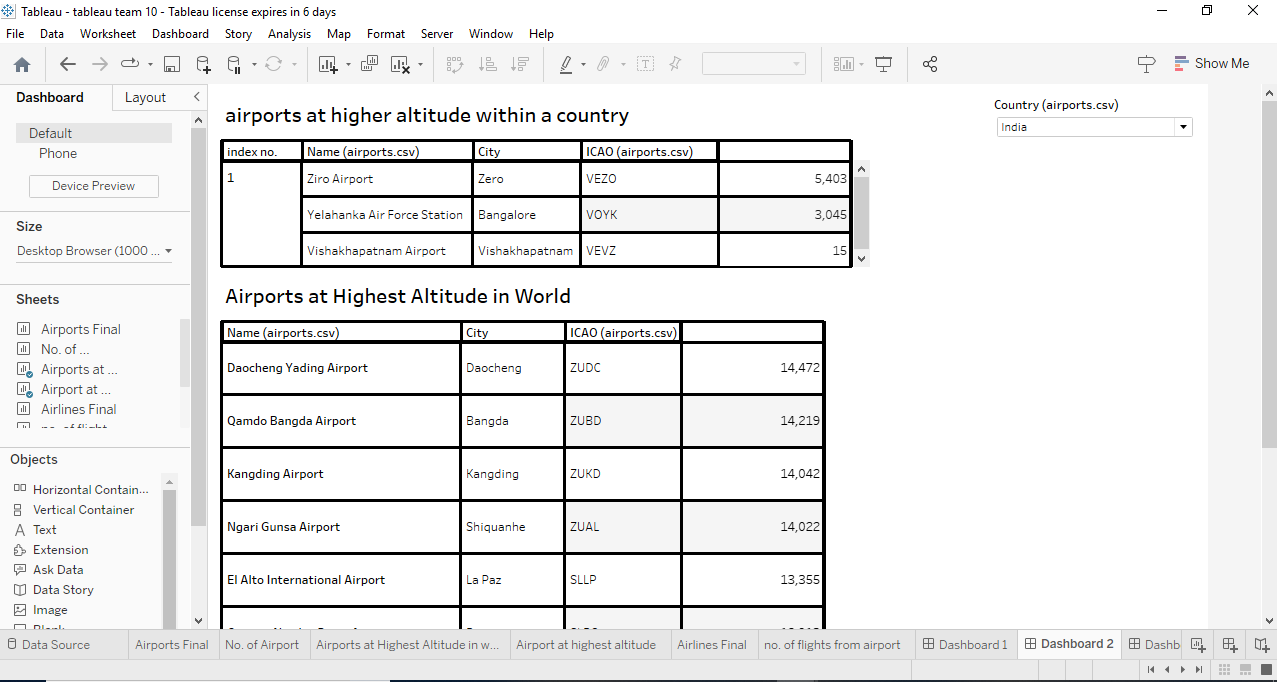

The page's visual inventory and layout, read from the dashboard file:
{"tool":"tableau","page":{"name":"Dashboard 2","canvas":[1000,800],"ordinal":1},"visuals":[{"type":"worksheet","title":"Airport at highest altitude","mark":"Automatic","rows":["Calculation_593067785883844608","Name (airports.csv)","City","ICAO (airports.csv)"],"box":[8,8,774,192]},{"type":"filter","title":"Airport at highest altitude","param":"[federated.12byijz1si6xmv18ua5wi1x2ltqk].[none:Country (airports.csv):nk]","box":[782,8,210,109]},{"type":"worksheet","title":"Airports at Highest Altitude in world","mark":"Automatic","rows":["Name (airports.csv)","City","ICAO (airports.csv)"],"box":[8,200,774,592]}]}

Visuals, with their boxes on the page's 1000x800 design canvas (x1, y1, x2, y2). These are canvas units, not pixel positions in the 1277x682 screenshot, which may show the page scaled, cropped or inside an application window:
"Airport at highest altitude" worksheet: 8, 8, 782, 200
"Airport at highest altitude" filter: 782, 8, 992, 117
"Airports at Highest Altitude in world" worksheet: 8, 200, 782, 792
